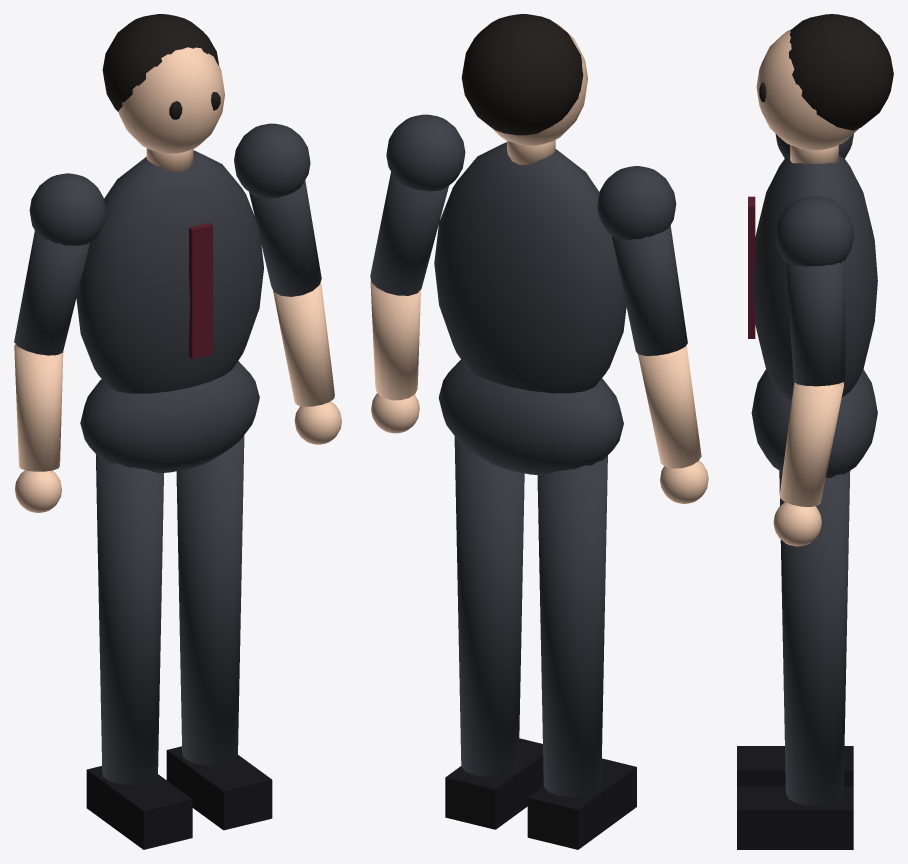
The model's file is victor.glb.
3 renders of one model, left to right at view 1: azimuth 30°, elevation 25°; view 2: azimuth 150°, elevation 25°; view 3: azimuth 270°, elevation 25°, orthographic. The views are drawn at different scales.
Visible parts, largest first — view 1: victor; view 2: victor; view 3: victor.
Boxes of the visible parts, left/top/right/bottom form: victor: left=14, top=14, right=341, bottom=849; victor: left=370, top=14, right=708, bottom=849; victor: left=737, top=14, right=893, bottom=849.
Bounding box in the file's own units: 0.8205 × 1.91 × 0.3396.
